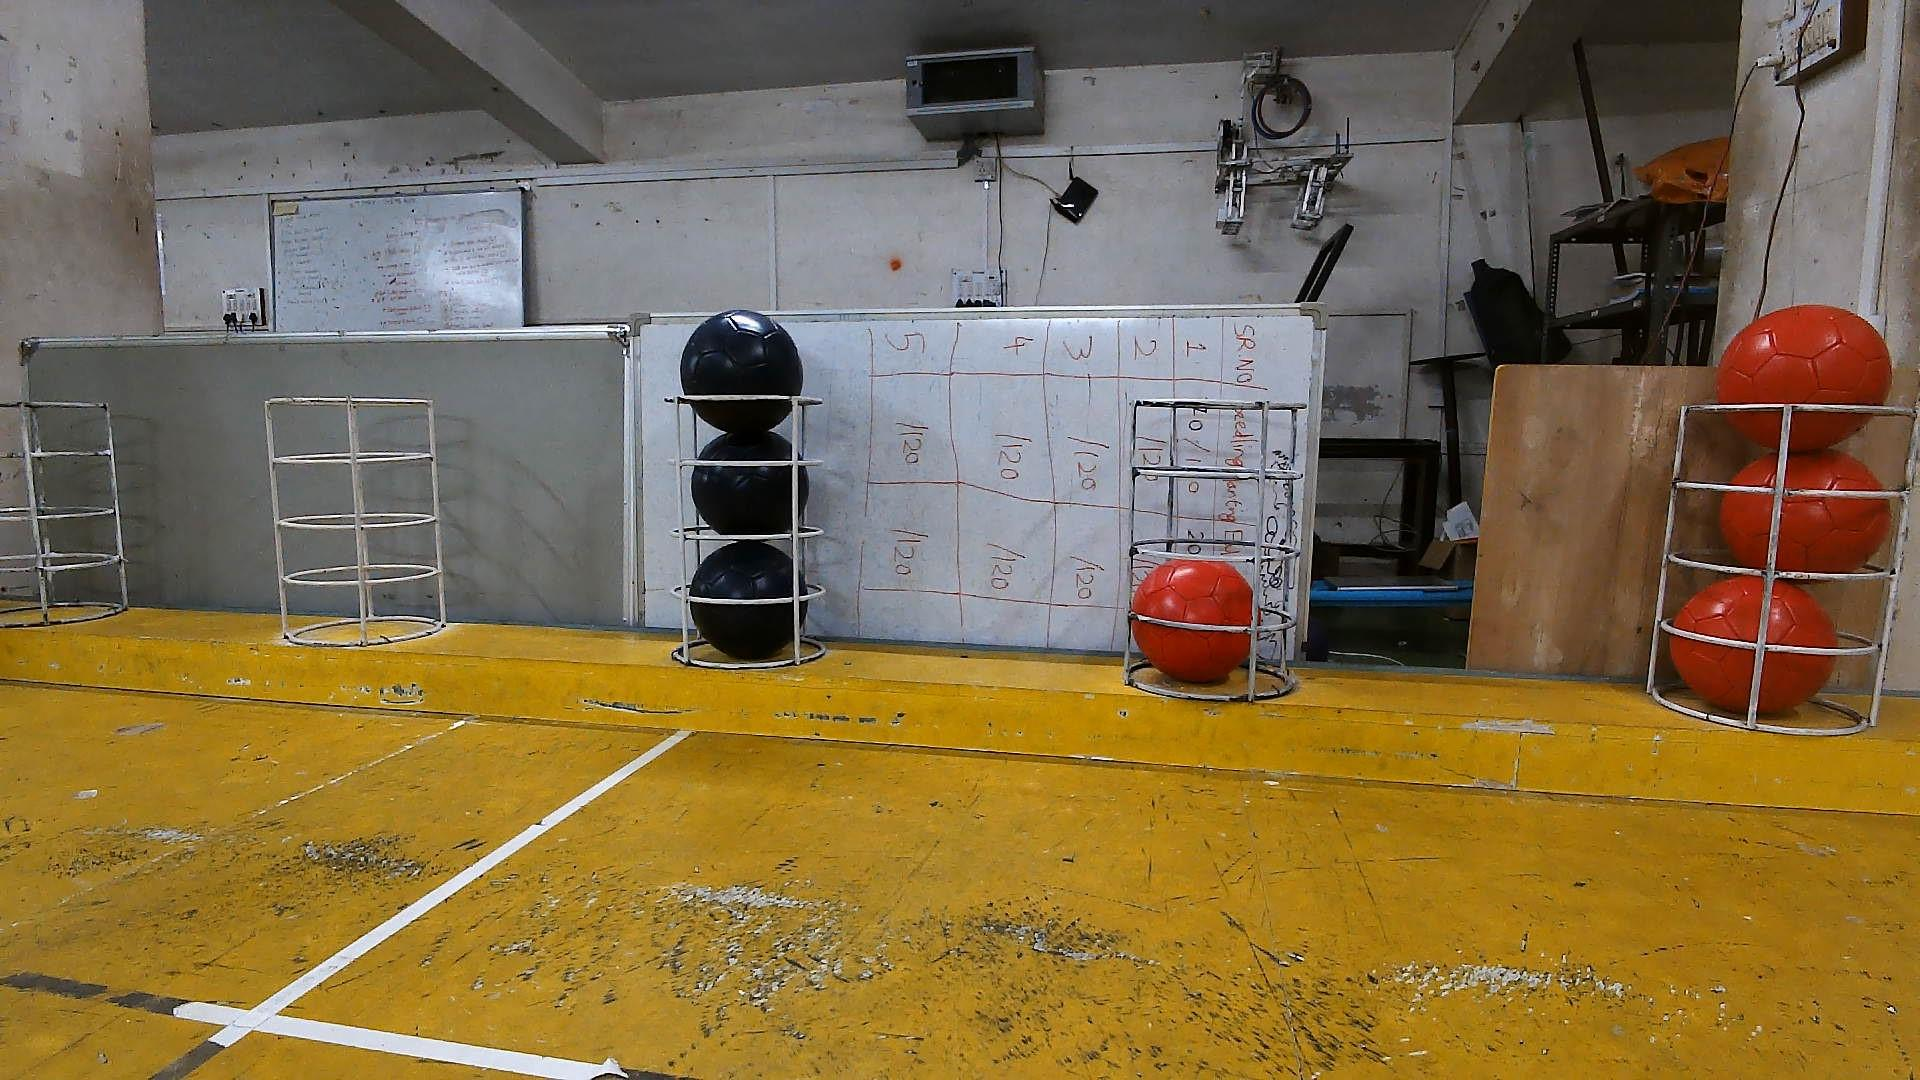dhoka: (679, 311, 803, 431), (690, 541, 810, 661), (690, 423, 806, 537)
laale: (1717, 303, 1894, 450), (1676, 583, 1845, 719), (1721, 443, 1894, 574), (1133, 559, 1253, 683)
